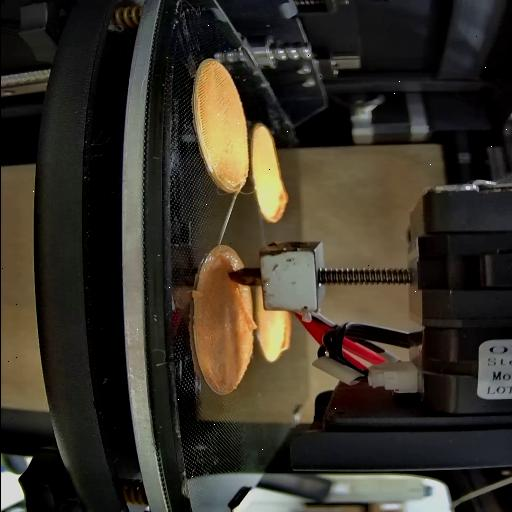over_extrusion: (228, 284, 258, 332), (257, 193, 290, 224), (276, 316, 294, 352), (214, 254, 236, 274)
